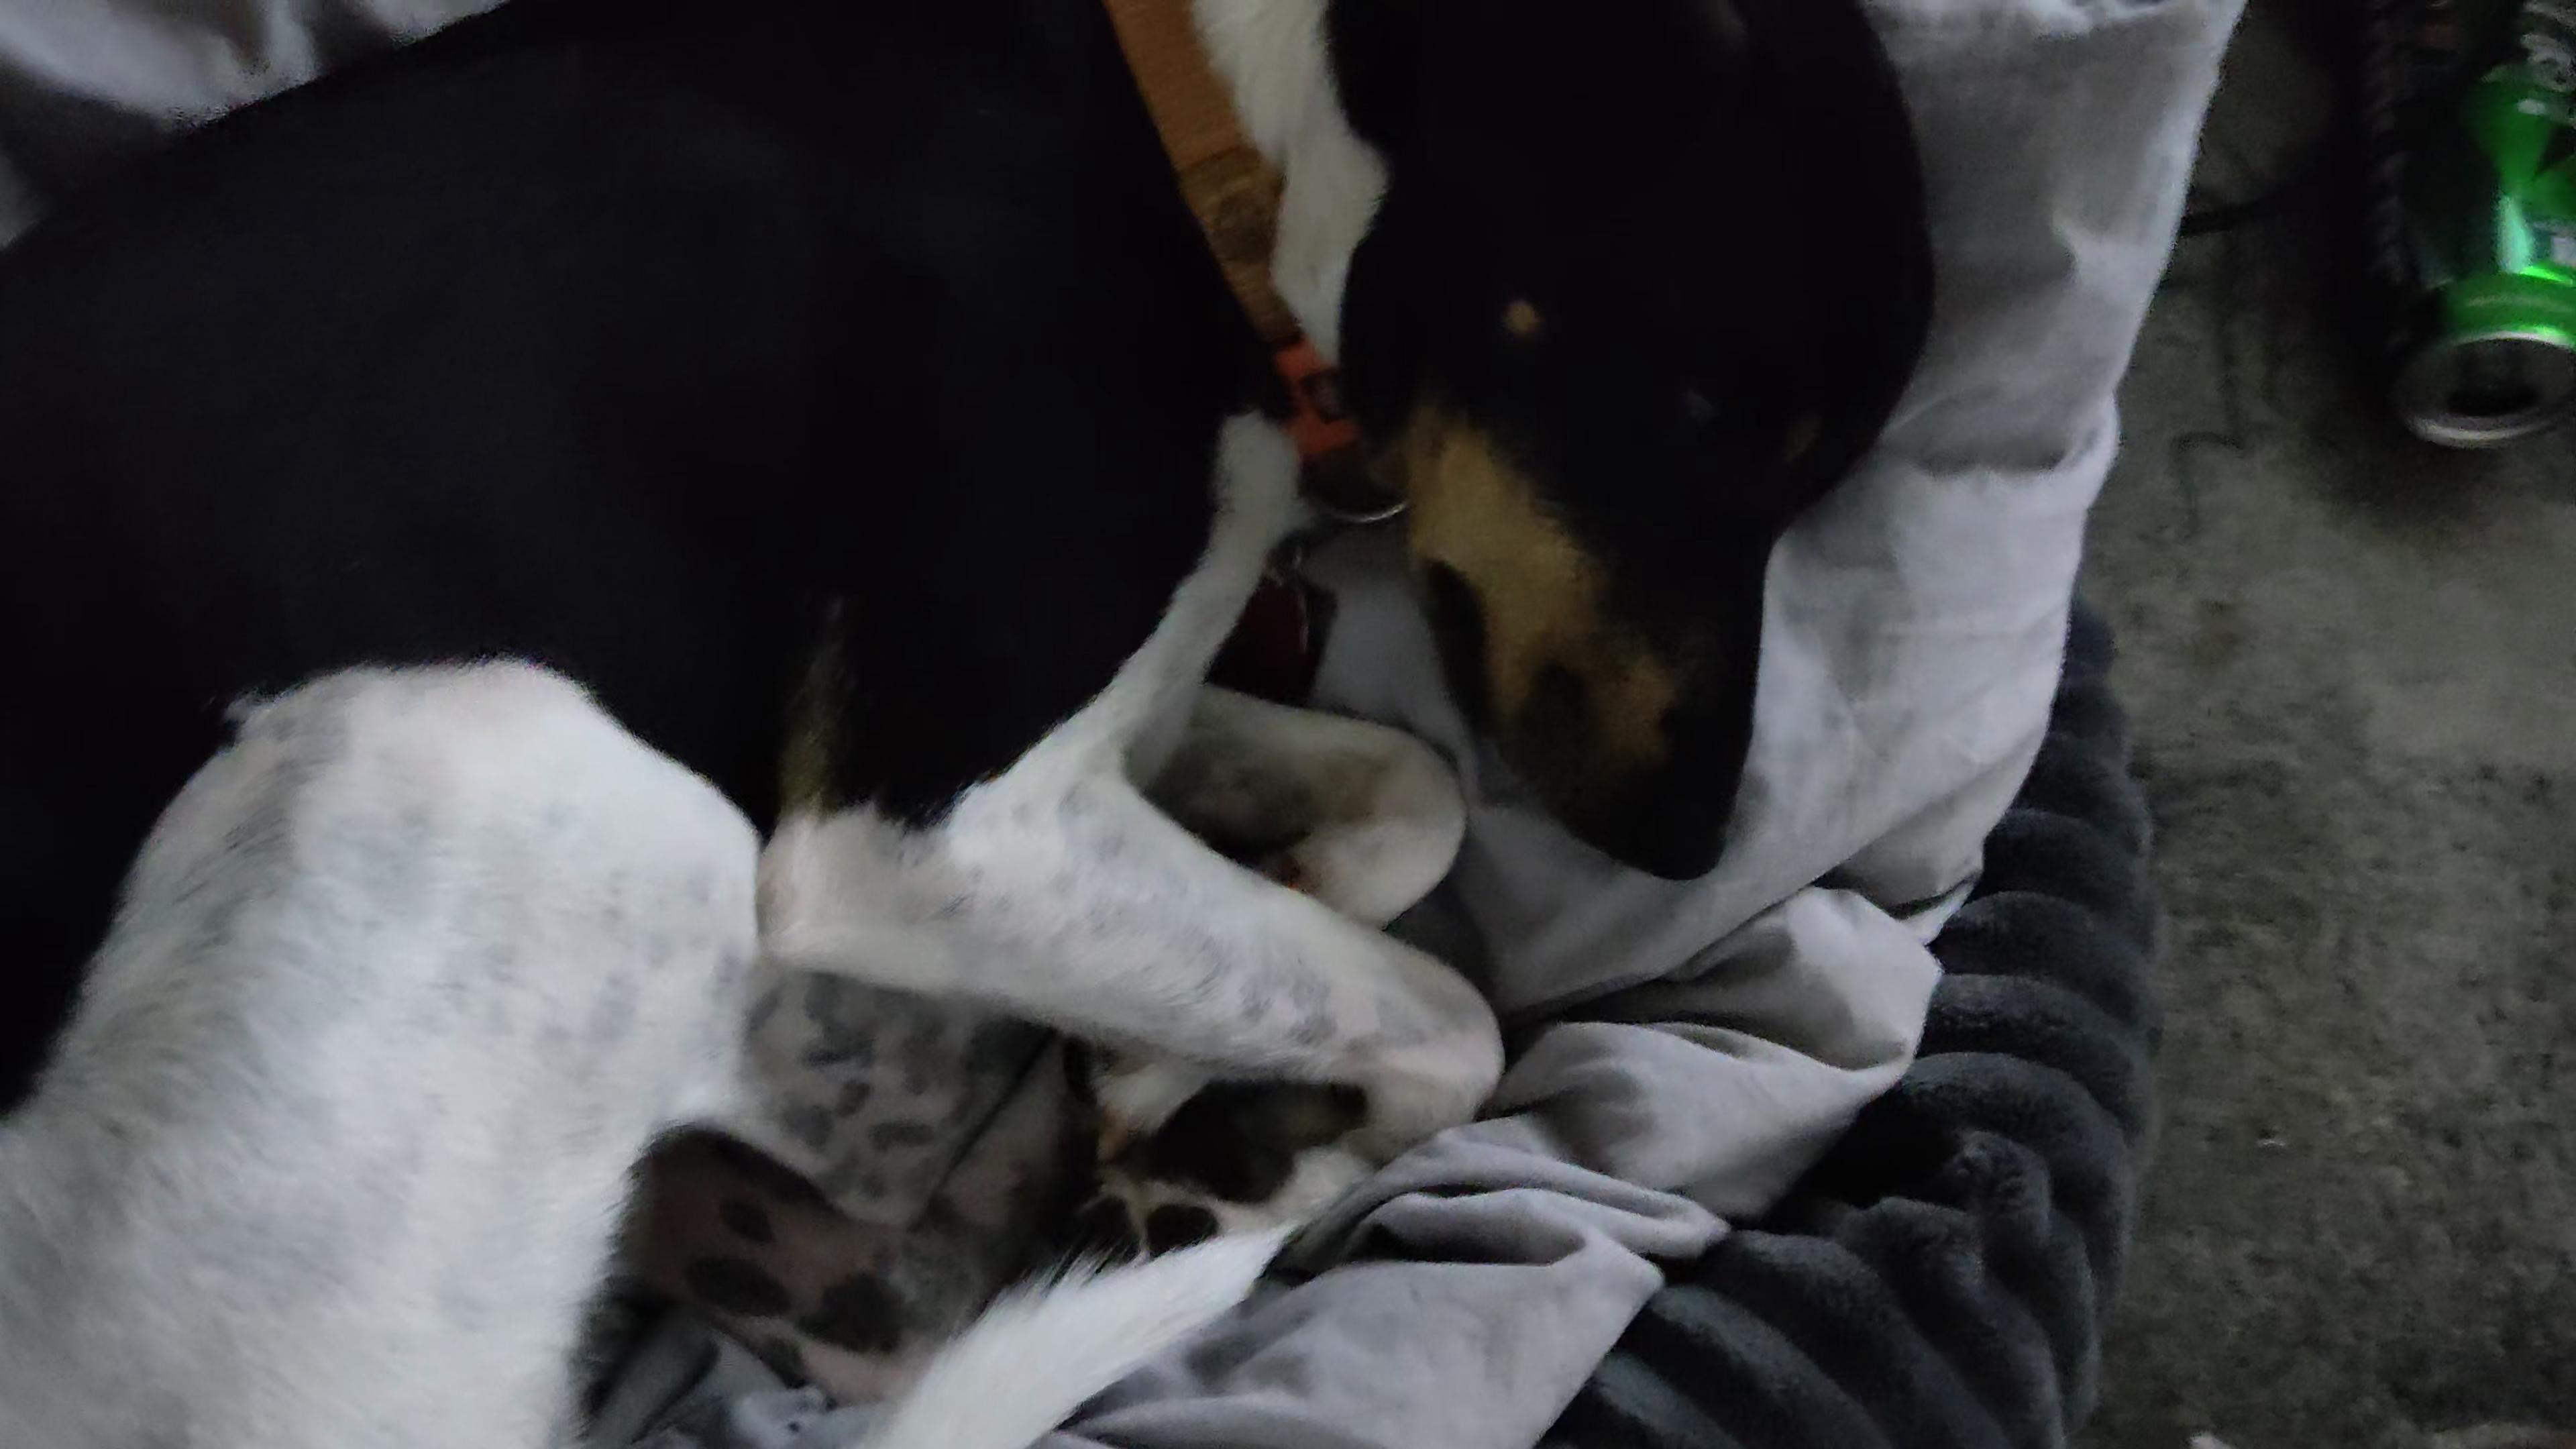Dog: (0, 0, 1948, 1449)
